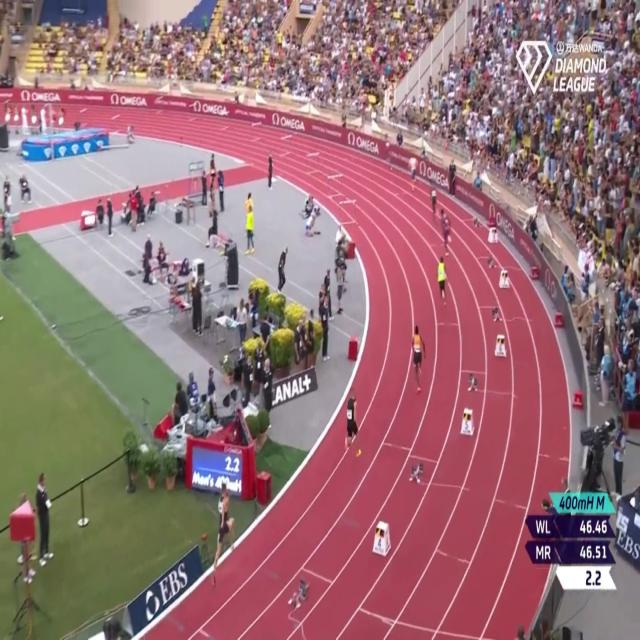athlete: (212, 477, 238, 591), (344, 386, 363, 469), (409, 321, 426, 404), (438, 207, 455, 261), (434, 254, 449, 310), (406, 147, 419, 200), (380, 130, 394, 175), (428, 176, 439, 224)
hurdle: (337, 198, 359, 227), (302, 148, 320, 179), (325, 171, 344, 198), (76, 102, 92, 133), (248, 116, 264, 147), (278, 131, 294, 160), (185, 101, 200, 127), (108, 112, 123, 133), (153, 93, 165, 118), (219, 109, 230, 134)
